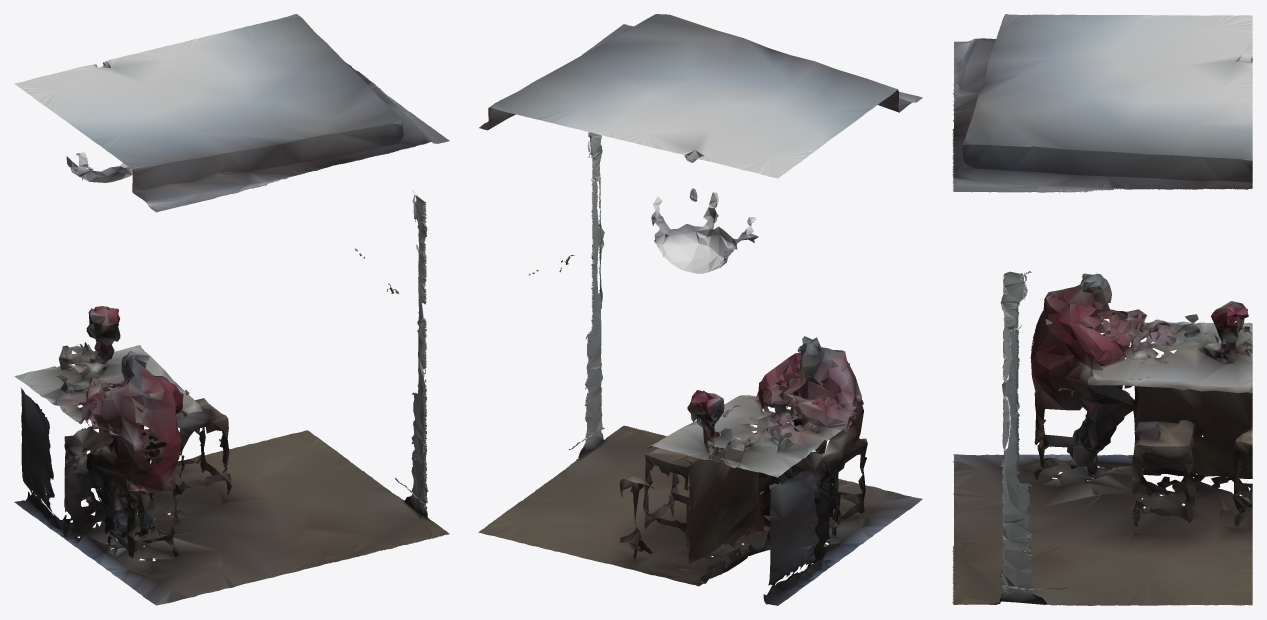
File: coarse.glb
The picture shows the model from 3 angles, left to right: view 1: azimuth 30°, elevation 25°; view 2: azimuth 150°, elevation 25°; view 3: azimuth 270°, elevation 25°; orthographic projection. The views are drawn at different scales.
Bounding box in the file's own units: 2.25 × 3.09 × 1.9.
